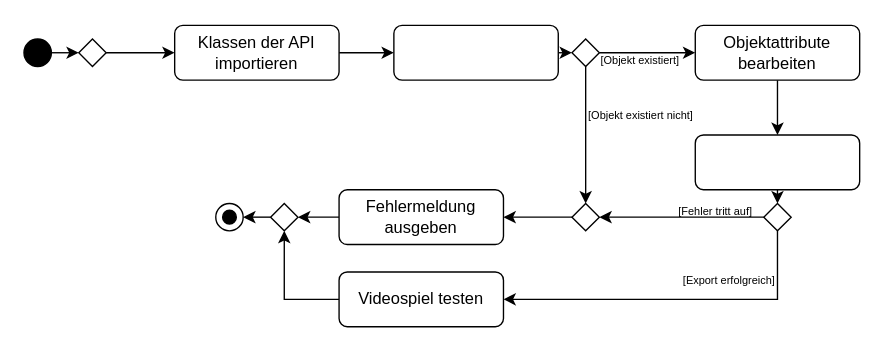
The diagram is 884 pixels wide and 351 high, and some of its shapes have lost their labels. Each missing label, with the centre of its shape:
"Klasseninstanz erstellen, um auf Objekt zuzugreifen" belongs at (475,52).
"Videospiel exportieren" belongs at (777,162).
